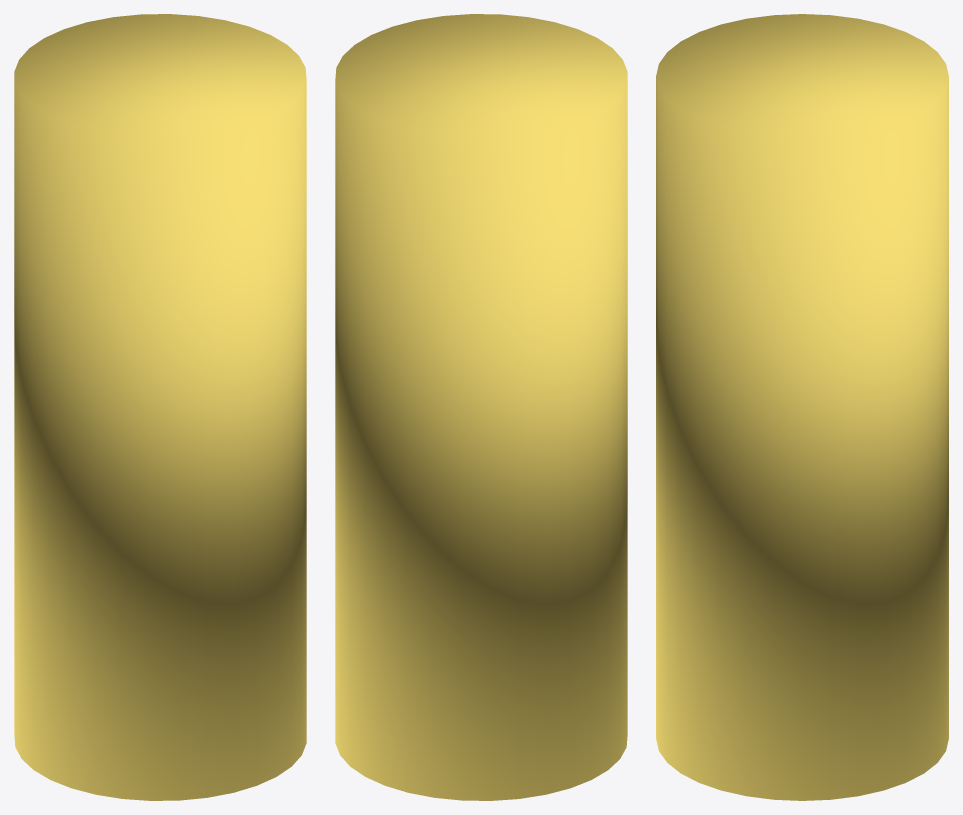
Rendered from HATCH_Lambda_O2_Sensor_Downstream.glb.
The picture shows the model from 3 angles, left to right: view 1: azimuth 30°, elevation 25°; view 2: azimuth 150°, elevation 25°; view 3: azimuth 270°, elevation 25°; orthographic projection.
Parts seen in each view (by area): view 1: HATCH_Lambda_O2_Sensor_Downstream; view 2: HATCH_Lambda_O2_Sensor_Downstream; view 3: HATCH_Lambda_O2_Sensor_Downstream.
Part boxes in pixels (left/top/right/bottom): HATCH_Lambda_O2_Sensor_Downstream: left=14, top=14, right=306, bottom=800; HATCH_Lambda_O2_Sensor_Downstream: left=335, top=14, right=627, bottom=800; HATCH_Lambda_O2_Sensor_Downstream: left=656, top=14, right=948, bottom=800.
Bounding box in the file's own units: 0.018 × 0.045 × 0.018.
